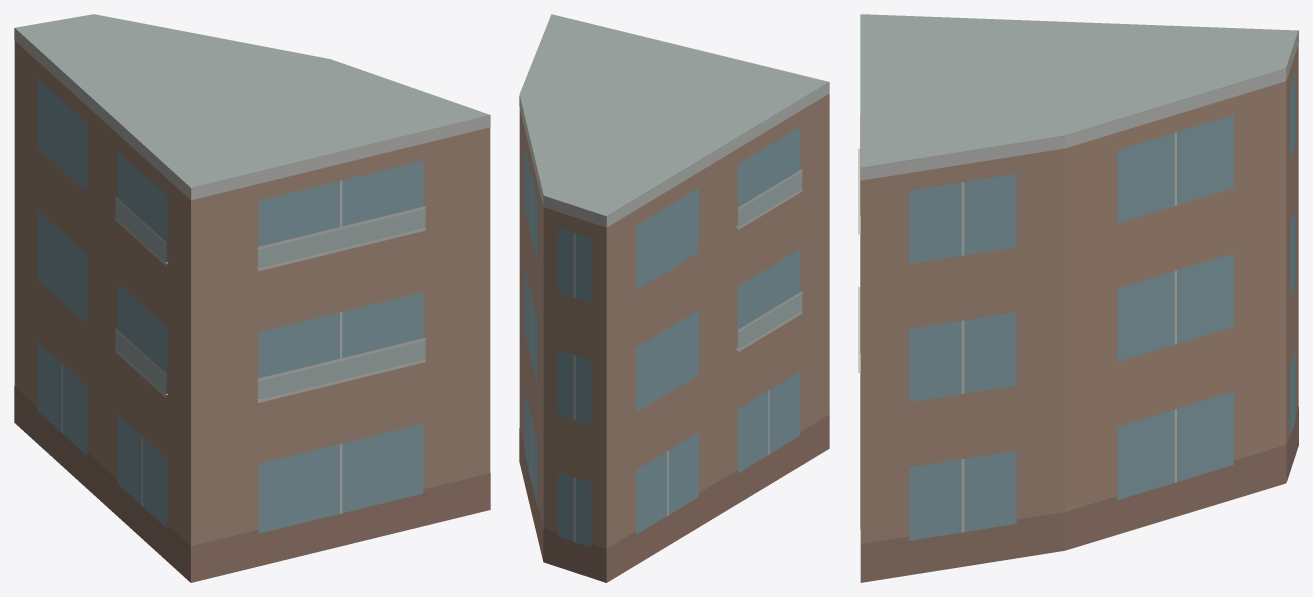
File: survey-upis-33033012.glb
3 views of the same model, side by side, from view 1: azimuth 30°, elevation 25°; view 2: azimuth 150°, elevation 25°; view 3: azimuth 270°, elevation 25° (orthographic). The views are drawn at different scales.
Parts seen in each view (by area): view 1: survey-upis-33033012.tmp; view 2: survey-upis-33033012.tmp; view 3: survey-upis-33033012.tmp.
Boxes of the visible parts, x1,y1,x2,y2 form: survey-upis-33033012.tmp: (14,14,490,582); survey-upis-33033012.tmp: (519,14,829,582); survey-upis-33033012.tmp: (858,14,1298,582).
Bounding box in the file's own units: 6.2 × 7.8 × 7.51.
